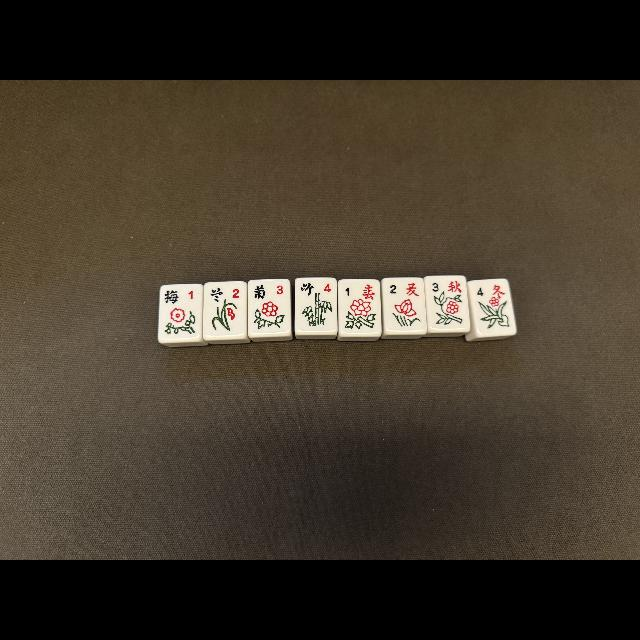f1: (160, 284, 202, 306)
f2: (204, 282, 246, 304)
f3: (247, 280, 291, 302)
f4: (295, 280, 335, 298)
s1: (338, 282, 380, 300)
s2: (385, 279, 423, 299)
s3: (427, 277, 468, 293)
s4: (472, 282, 512, 300)
